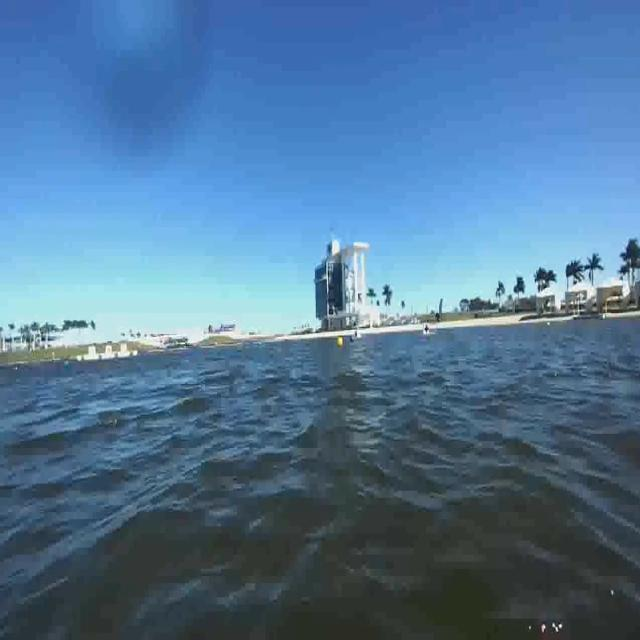yellow-buoy: (338, 336, 345, 349)
